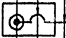Single Phase Tap-Off Unit: (0, 0, 57, 37)
